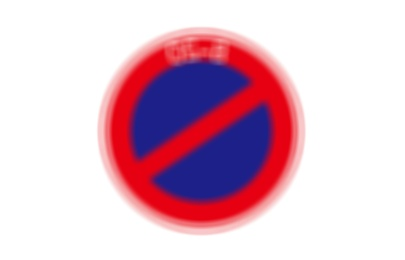Prohibition_sign: (96, 17, 310, 229)
